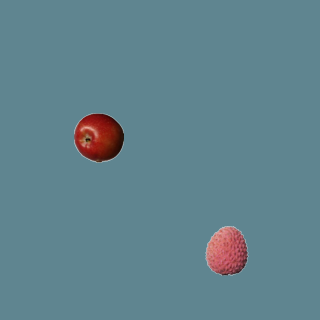Apple Braeburn: (73, 112, 123, 162)
Lychee: (201, 225, 251, 275)
